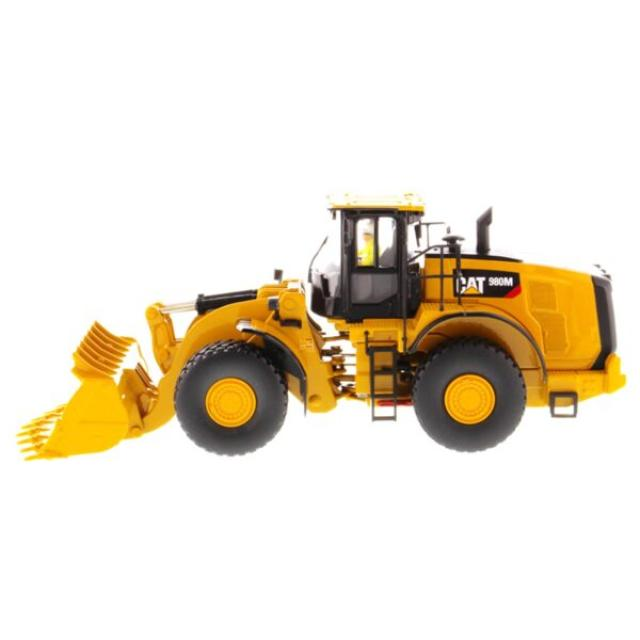buldozerpayloadergrader: (11, 187, 632, 466)
